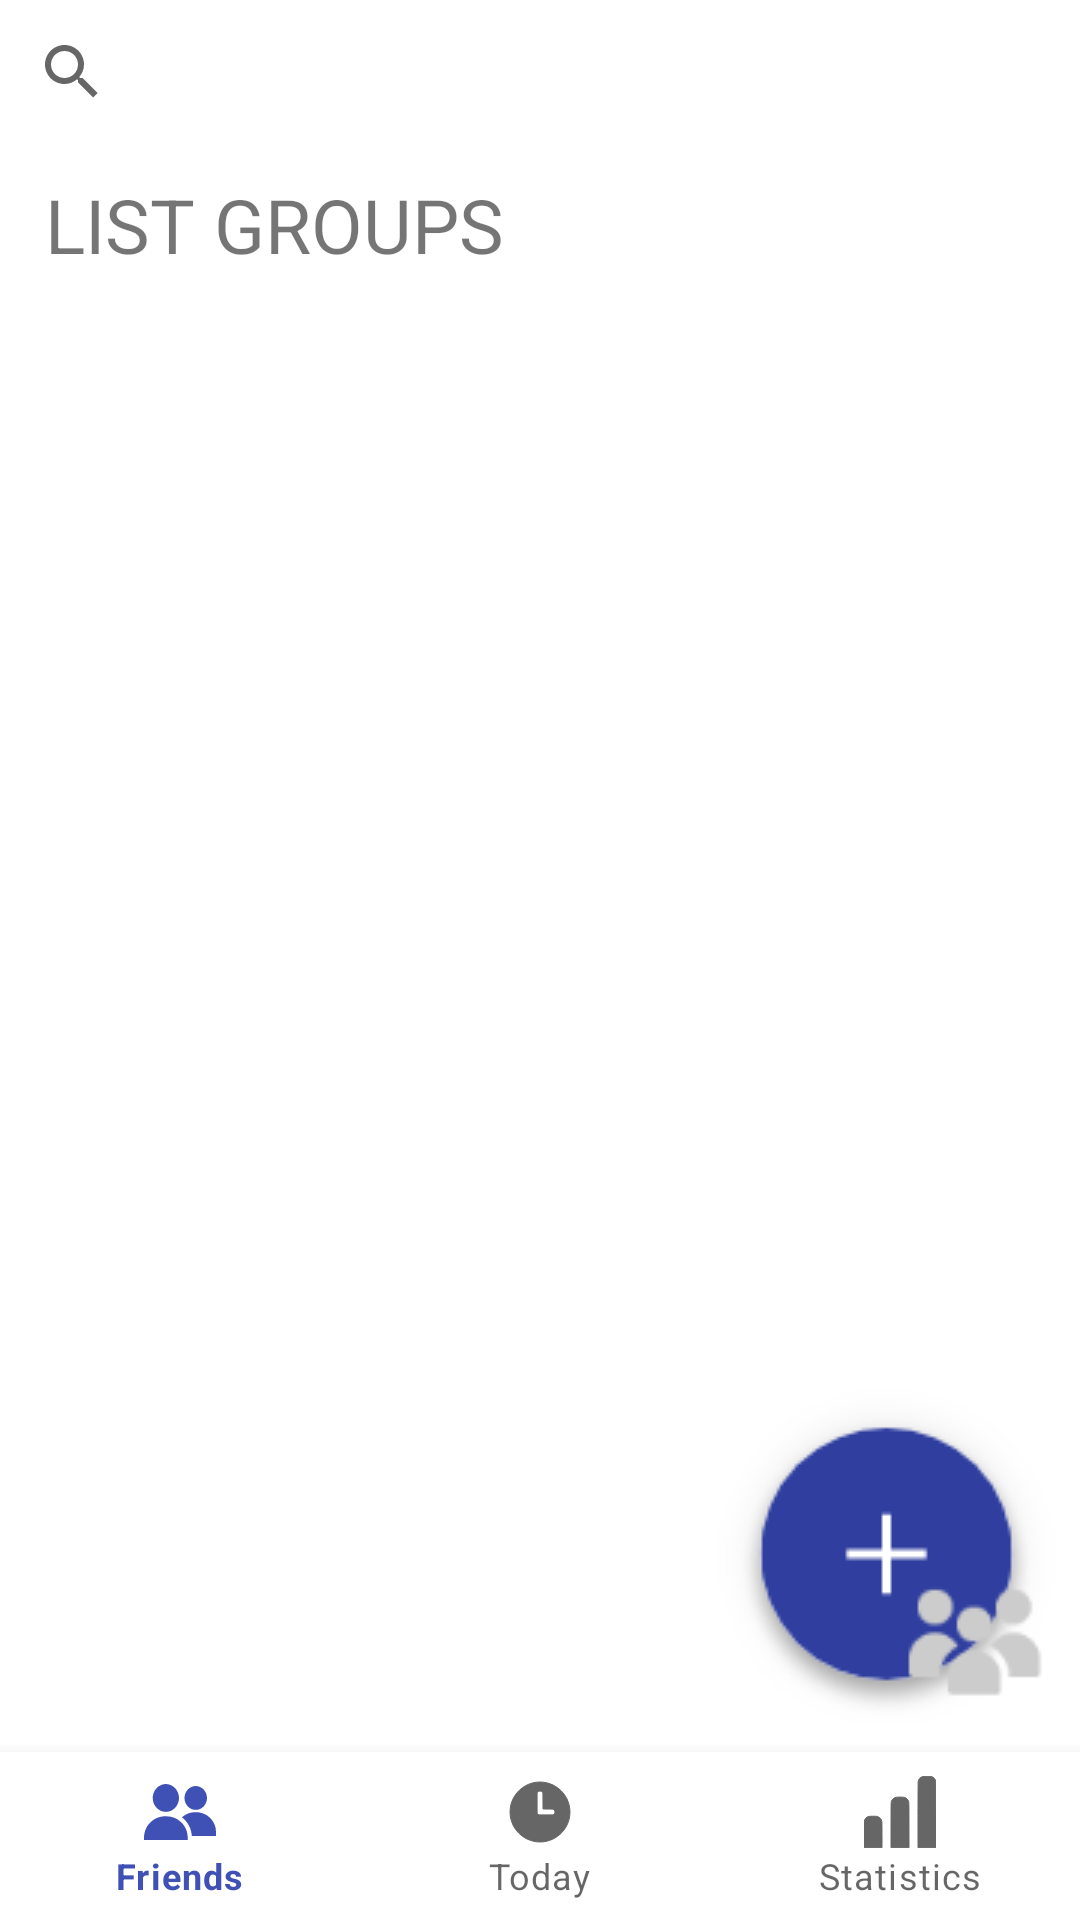

Named icons in this screenshot (1080×1920) and their bounding boxes, detection(x1, y1, x2, y2):
addbutton: detection(752, 1427, 1040, 1700)
